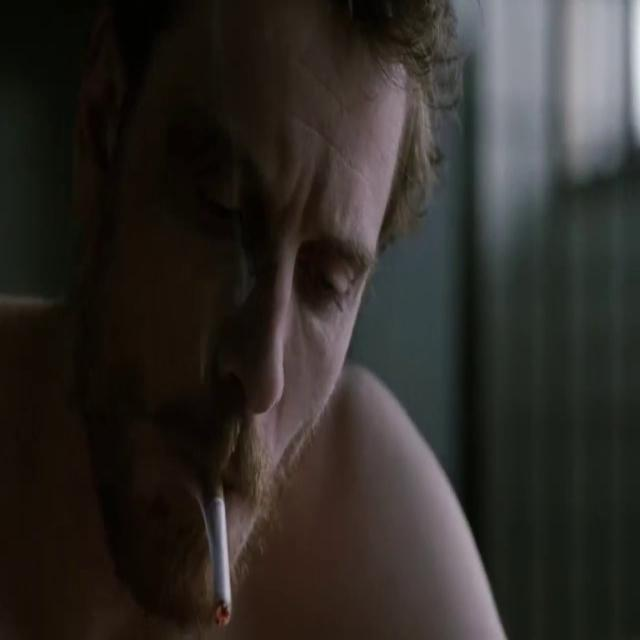Smooking: (206, 484, 248, 634)
